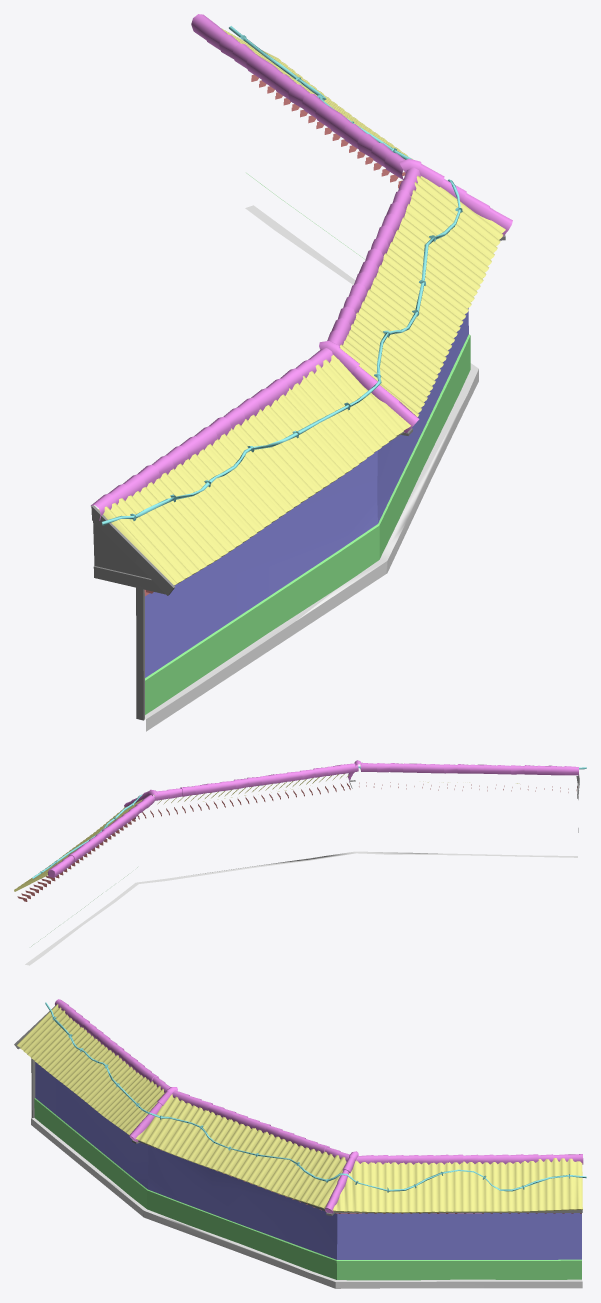
The model's file is SM_ENV_LKNVLD_Hokage_Gate_Wall_Lod2.gltf.
3 views of the same model, one above another, from view 1: azimuth 30°, elevation 25°; view 2: azimuth 150°, elevation 25°; view 3: azimuth 270°, elevation 25° (orthographic). The views are drawn at different scales.
Visible parts, largest first — view 1: SM_ENV_LKNVLD_Hokage_Gate_Wall_Lod2; view 2: SM_ENV_LKNVLD_Hokage_Gate_Wall_Lod2; view 3: SM_ENV_LKNVLD_Hokage_Gate_Wall_Lod2.
Part boxes in pixels (box(x1,y1,x2,y2)): SM_ENV_LKNVLD_Hokage_Gate_Wall_Lod2: box(91, 14, 512, 731); SM_ENV_LKNVLD_Hokage_Gate_Wall_Lod2: box(14, 760, 586, 965); SM_ENV_LKNVLD_Hokage_Gate_Wall_Lod2: box(14, 999, 586, 1288).
Size of the model in its own units: 18.99 by 6.07 by 25.6.
